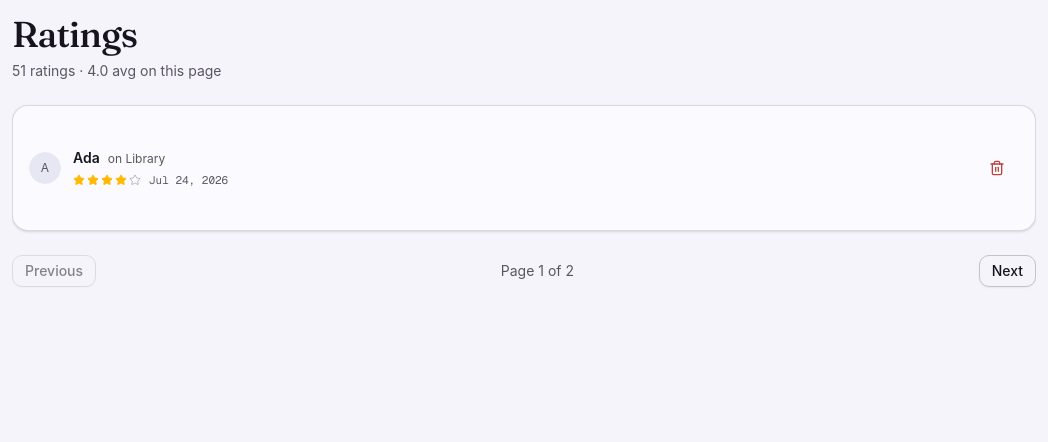
Test case: AdminRatingsPage › requests and renders the second server page in newest-first row order
This screenshot has width=1048, height=442.
Expected: the text "Page 1 of 2" is shown, [501,261,574,281]
Click the button "Next".
click(1007, 271)  # box [979,255,1036,287]
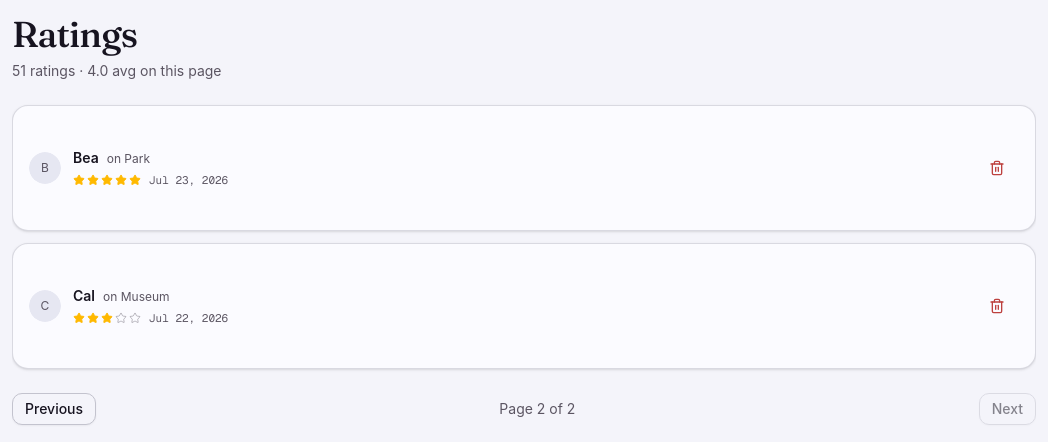
Now the text "Page 2 of 2" is shown, box [499,399,575,419]
Now the text "Bea" is shown, box [73,148,99,168]
Now the text "Cal" is shown, box [73,286,95,306]
